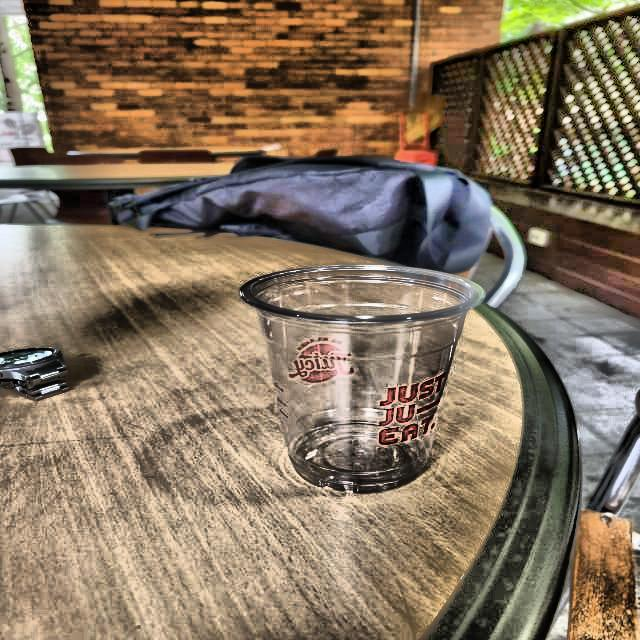plastic cup: (228, 257, 492, 499)
